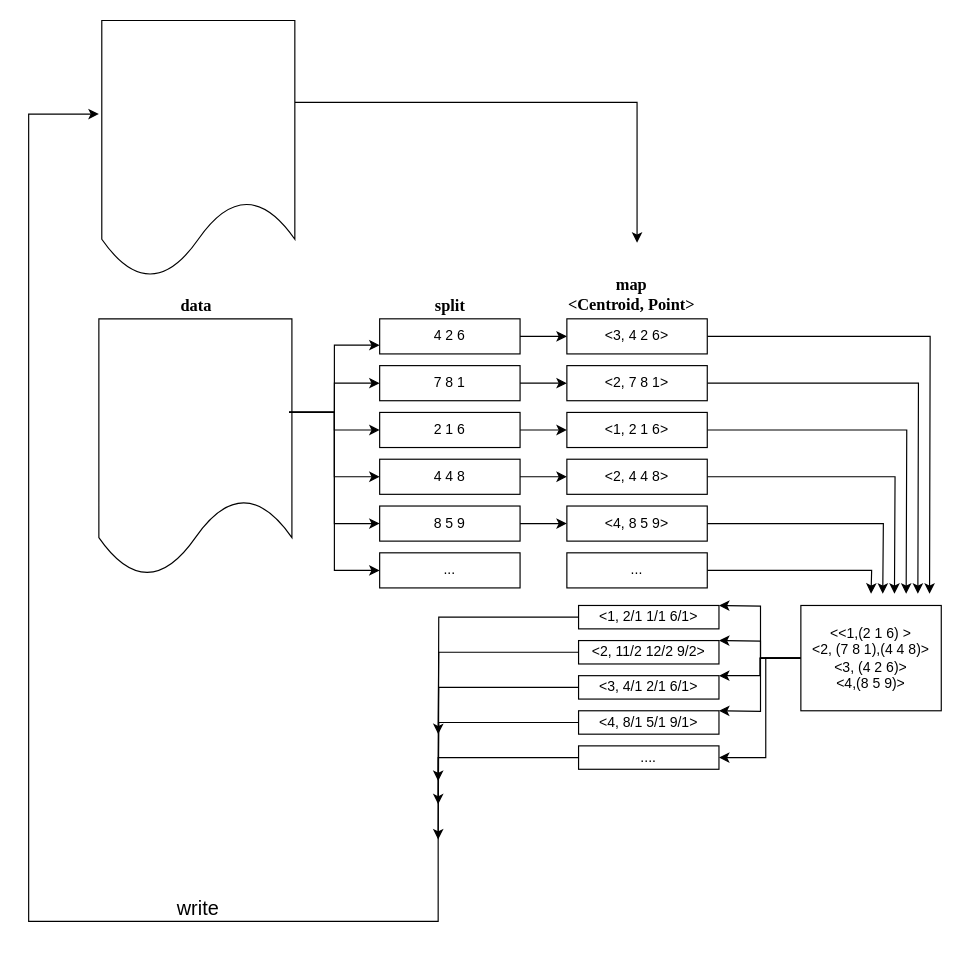
This 962x965 diagram has some shape labels left out. Each missing label, with the centre of its shape:
"1 x11,x12 x13 2 x21 x22 x23 3 x31 x32 x33 4 x41 x42 x43 * * *" belongs at pixel 198 148.
"v1 v2 v3 4 2 6 7 8 1 2 1 6 4 4 8 8 5 9 ..." belongs at pixel 195 447.
